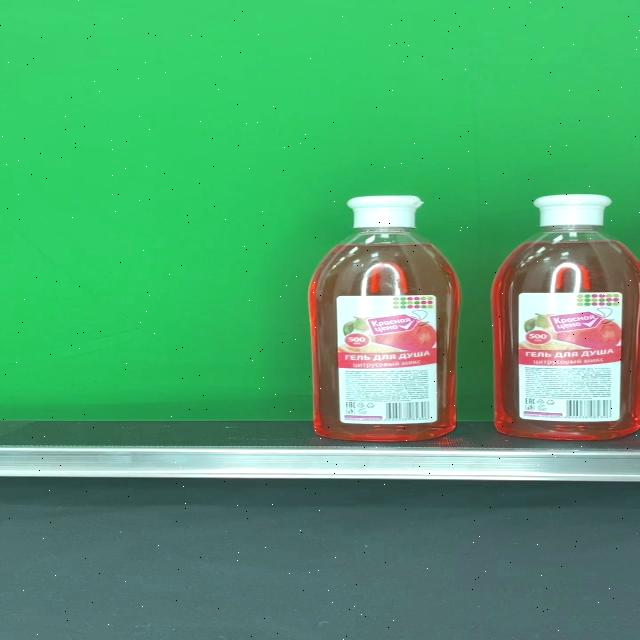Bottle: (309, 195, 460, 442), (492, 193, 640, 441)
Cap: (348, 195, 426, 229), (534, 194, 614, 226)
